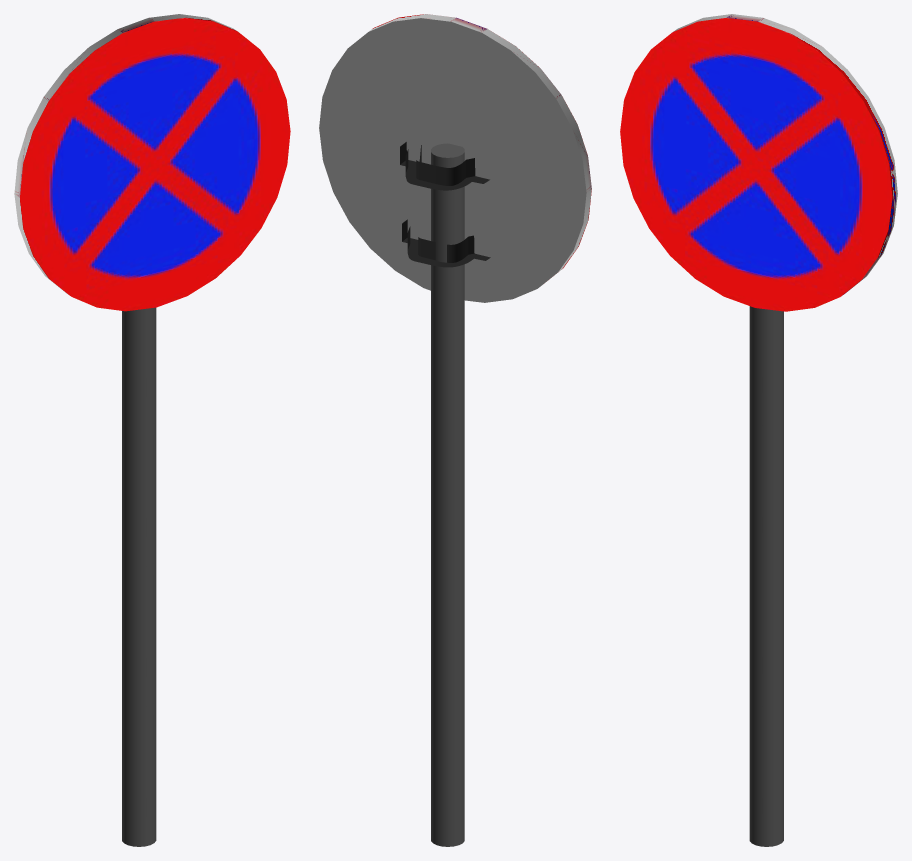
3 views of the same model, side by side, from view 1: azimuth 30°, elevation 25°; view 2: azimuth 150°, elevation 25°; view 3: azimuth 330°, elevation 25° (orthographic).
Visible parts, largest first — view 1: Circle002, sipka; view 2: Circle002, sipka, s, Line006; view 3: Circle002, sipka.
Boxes of the visible parts, x1=… form: Circle002: x1=14, y1=14, x2=290, y2=311; sipka: x1=122, y1=307, x2=156, y2=846; Circle002: x1=319, y1=14, x2=591, y2=302; sipka: x1=431, y1=143, x2=464, y2=846; s: x1=400, y1=142, x2=489, y2=190; Line006: x1=402, y1=219, x2=490, y2=267; Circle002: x1=620, y1=14, x2=897, y2=311; sipka: x1=749, y1=306, x2=783, y2=846.
Size of the model in its own units: 23.77 by 69.16 by 4.75.
